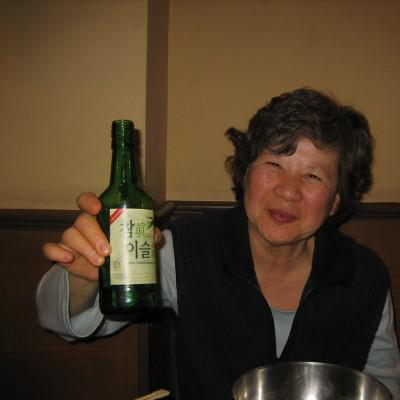soju: (88, 115, 171, 321)
